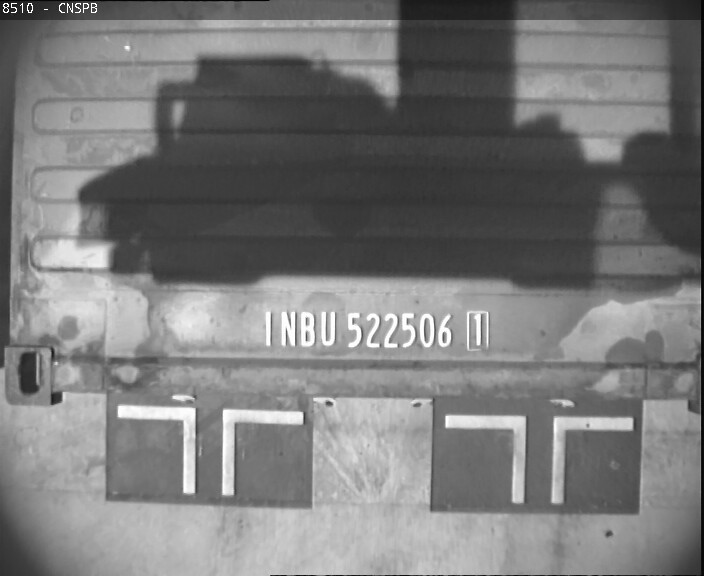groundmarker_1: (443, 415, 632, 506), (116, 404, 304, 495)
